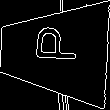P_W: (29, 33, 80, 72)
